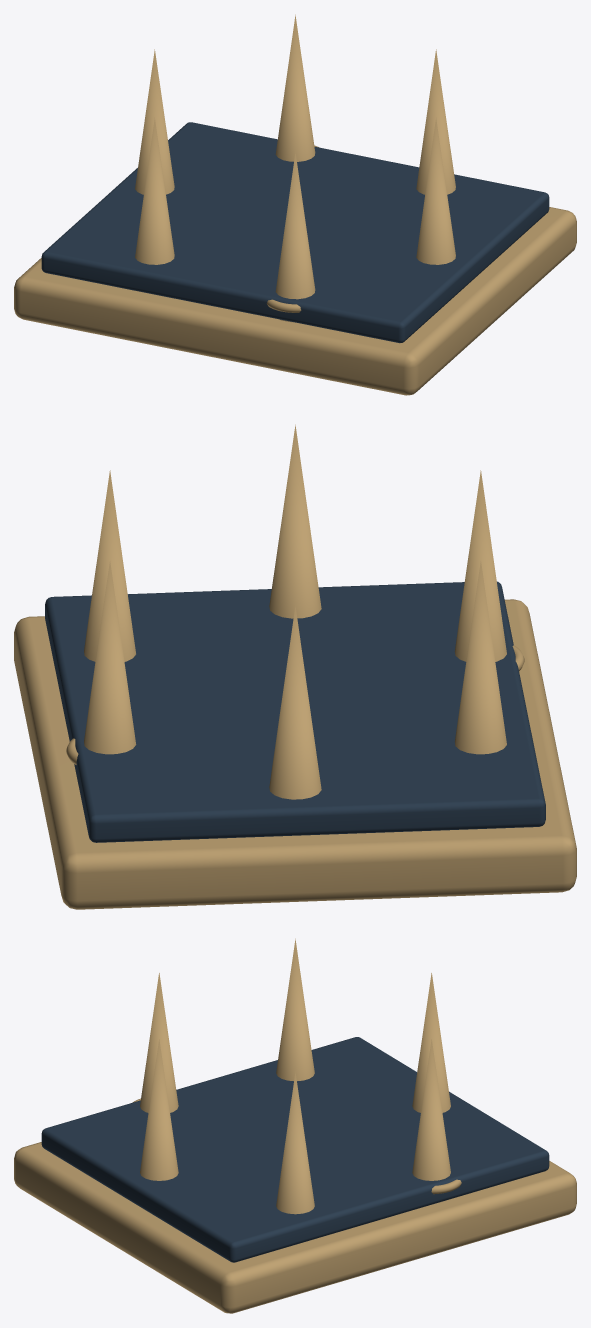
The model's file is SM_HC2_BeatCrown_023.fbx.
The picture shows the model from 3 angles, top to bottom: view 1: azimuth 30°, elevation 25°; view 2: azimuth 150°, elevation 25°; view 3: azimuth 270°, elevation 25°; orthographic projection. The views are drawn at different scales.
Parts seen in each view (by area): view 1: SM_HC2_BeatCrown_023; view 2: SM_HC2_BeatCrown_023; view 3: SM_HC2_BeatCrown_023.
Boxes of the visible parts, bbox=[...] form: SM_HC2_BeatCrown_023: bbox=[14, 14, 576, 395]; SM_HC2_BeatCrown_023: bbox=[14, 424, 576, 909]; SM_HC2_BeatCrown_023: bbox=[14, 938, 576, 1313].
Bounding box in the file's own units: 318 × 326 × 126.
